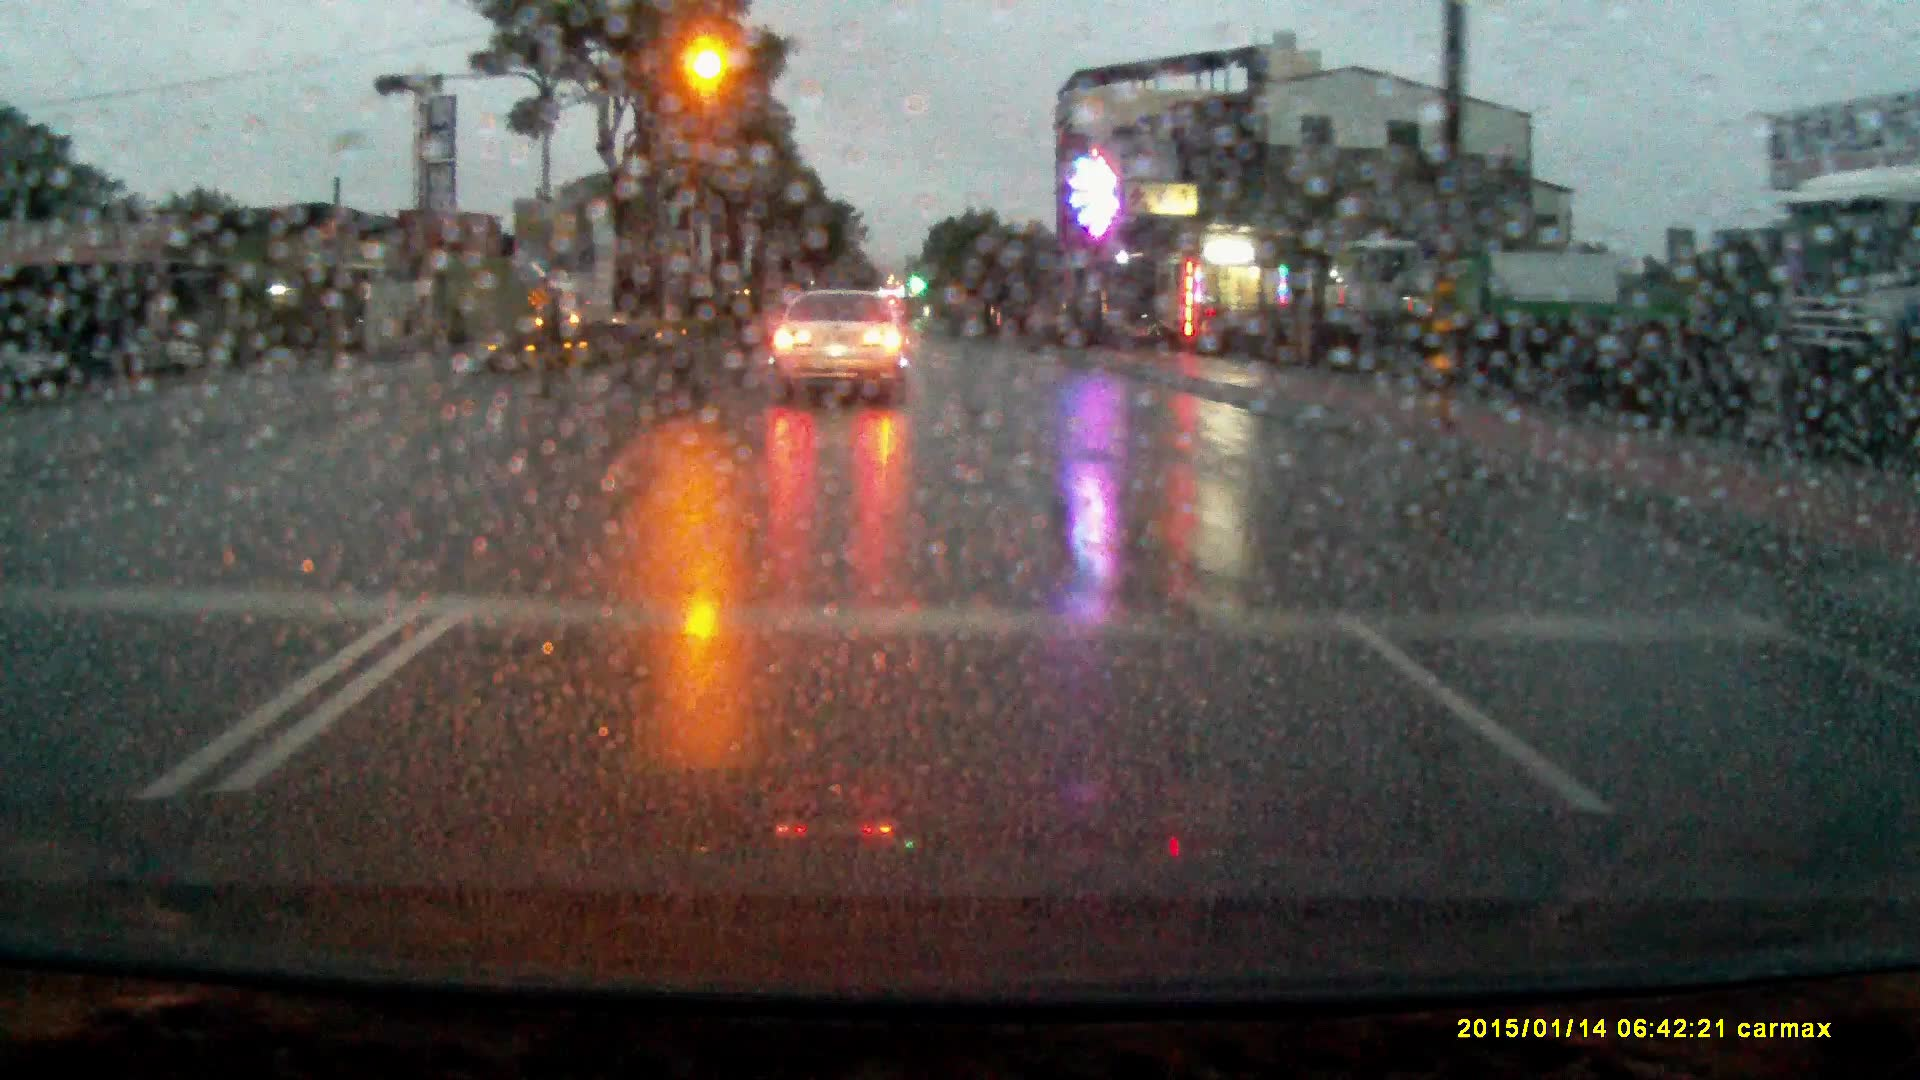vehicle: (1766, 167, 1920, 436), (1414, 251, 1629, 351), (774, 290, 918, 411), (1323, 233, 1445, 352), (542, 270, 609, 339)
